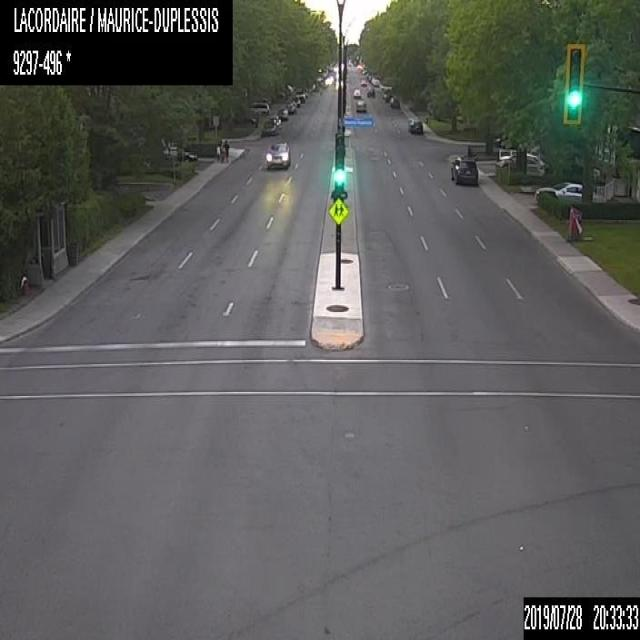pedestrian: (224, 139, 229, 161), (218, 138, 222, 158), (220, 145, 225, 161), (216, 144, 220, 162)
vehicle: (534, 181, 598, 207), (495, 154, 544, 176), (263, 138, 292, 166), (449, 156, 478, 184), (163, 144, 196, 161), (496, 148, 534, 160), (261, 118, 277, 138), (406, 115, 422, 133), (250, 100, 268, 114), (276, 106, 288, 119), (356, 99, 367, 111), (294, 90, 304, 102), (290, 96, 300, 107), (286, 101, 296, 112), (383, 89, 393, 99), (246, 115, 256, 125), (366, 85, 375, 96), (390, 96, 399, 107), (352, 87, 360, 96), (371, 76, 378, 86), (360, 78, 366, 84)
